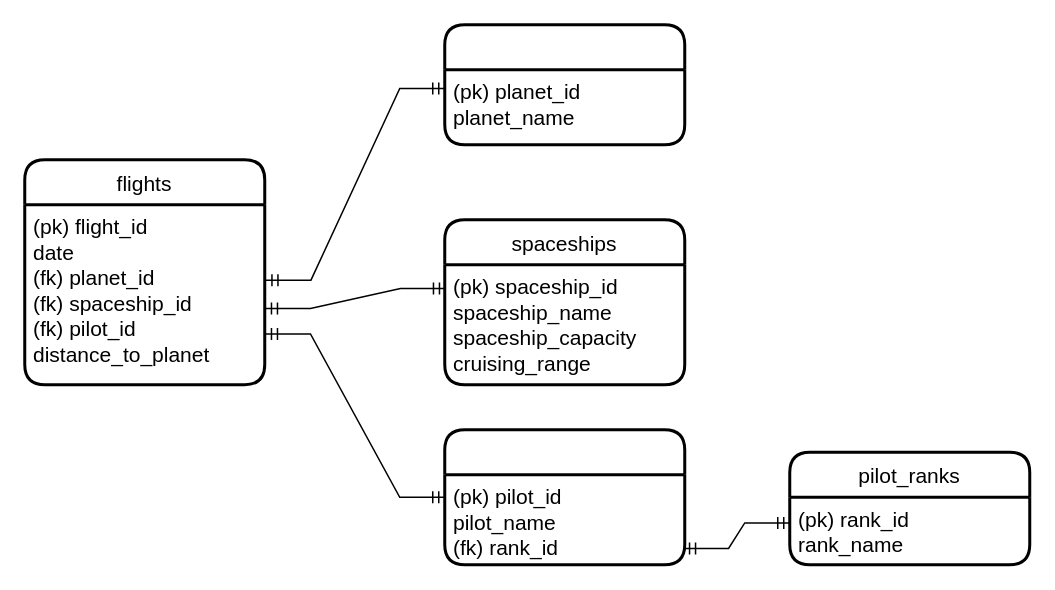
This 1055x590 diagram has some shape labels left out. The shapes that lost their labels are listed below. From the top down, each one's box as (x1, y1, x2, y2) in pixels, then its label:
(442, 22, 686, 146): planets
(442, 428, 686, 566): pilots
